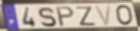4: (22, 7, 37, 29)
O: (115, 4, 135, 27)
P: (56, 6, 76, 28)
S: (37, 6, 58, 28)
V: (94, 5, 113, 27)
Z: (76, 6, 97, 27)
